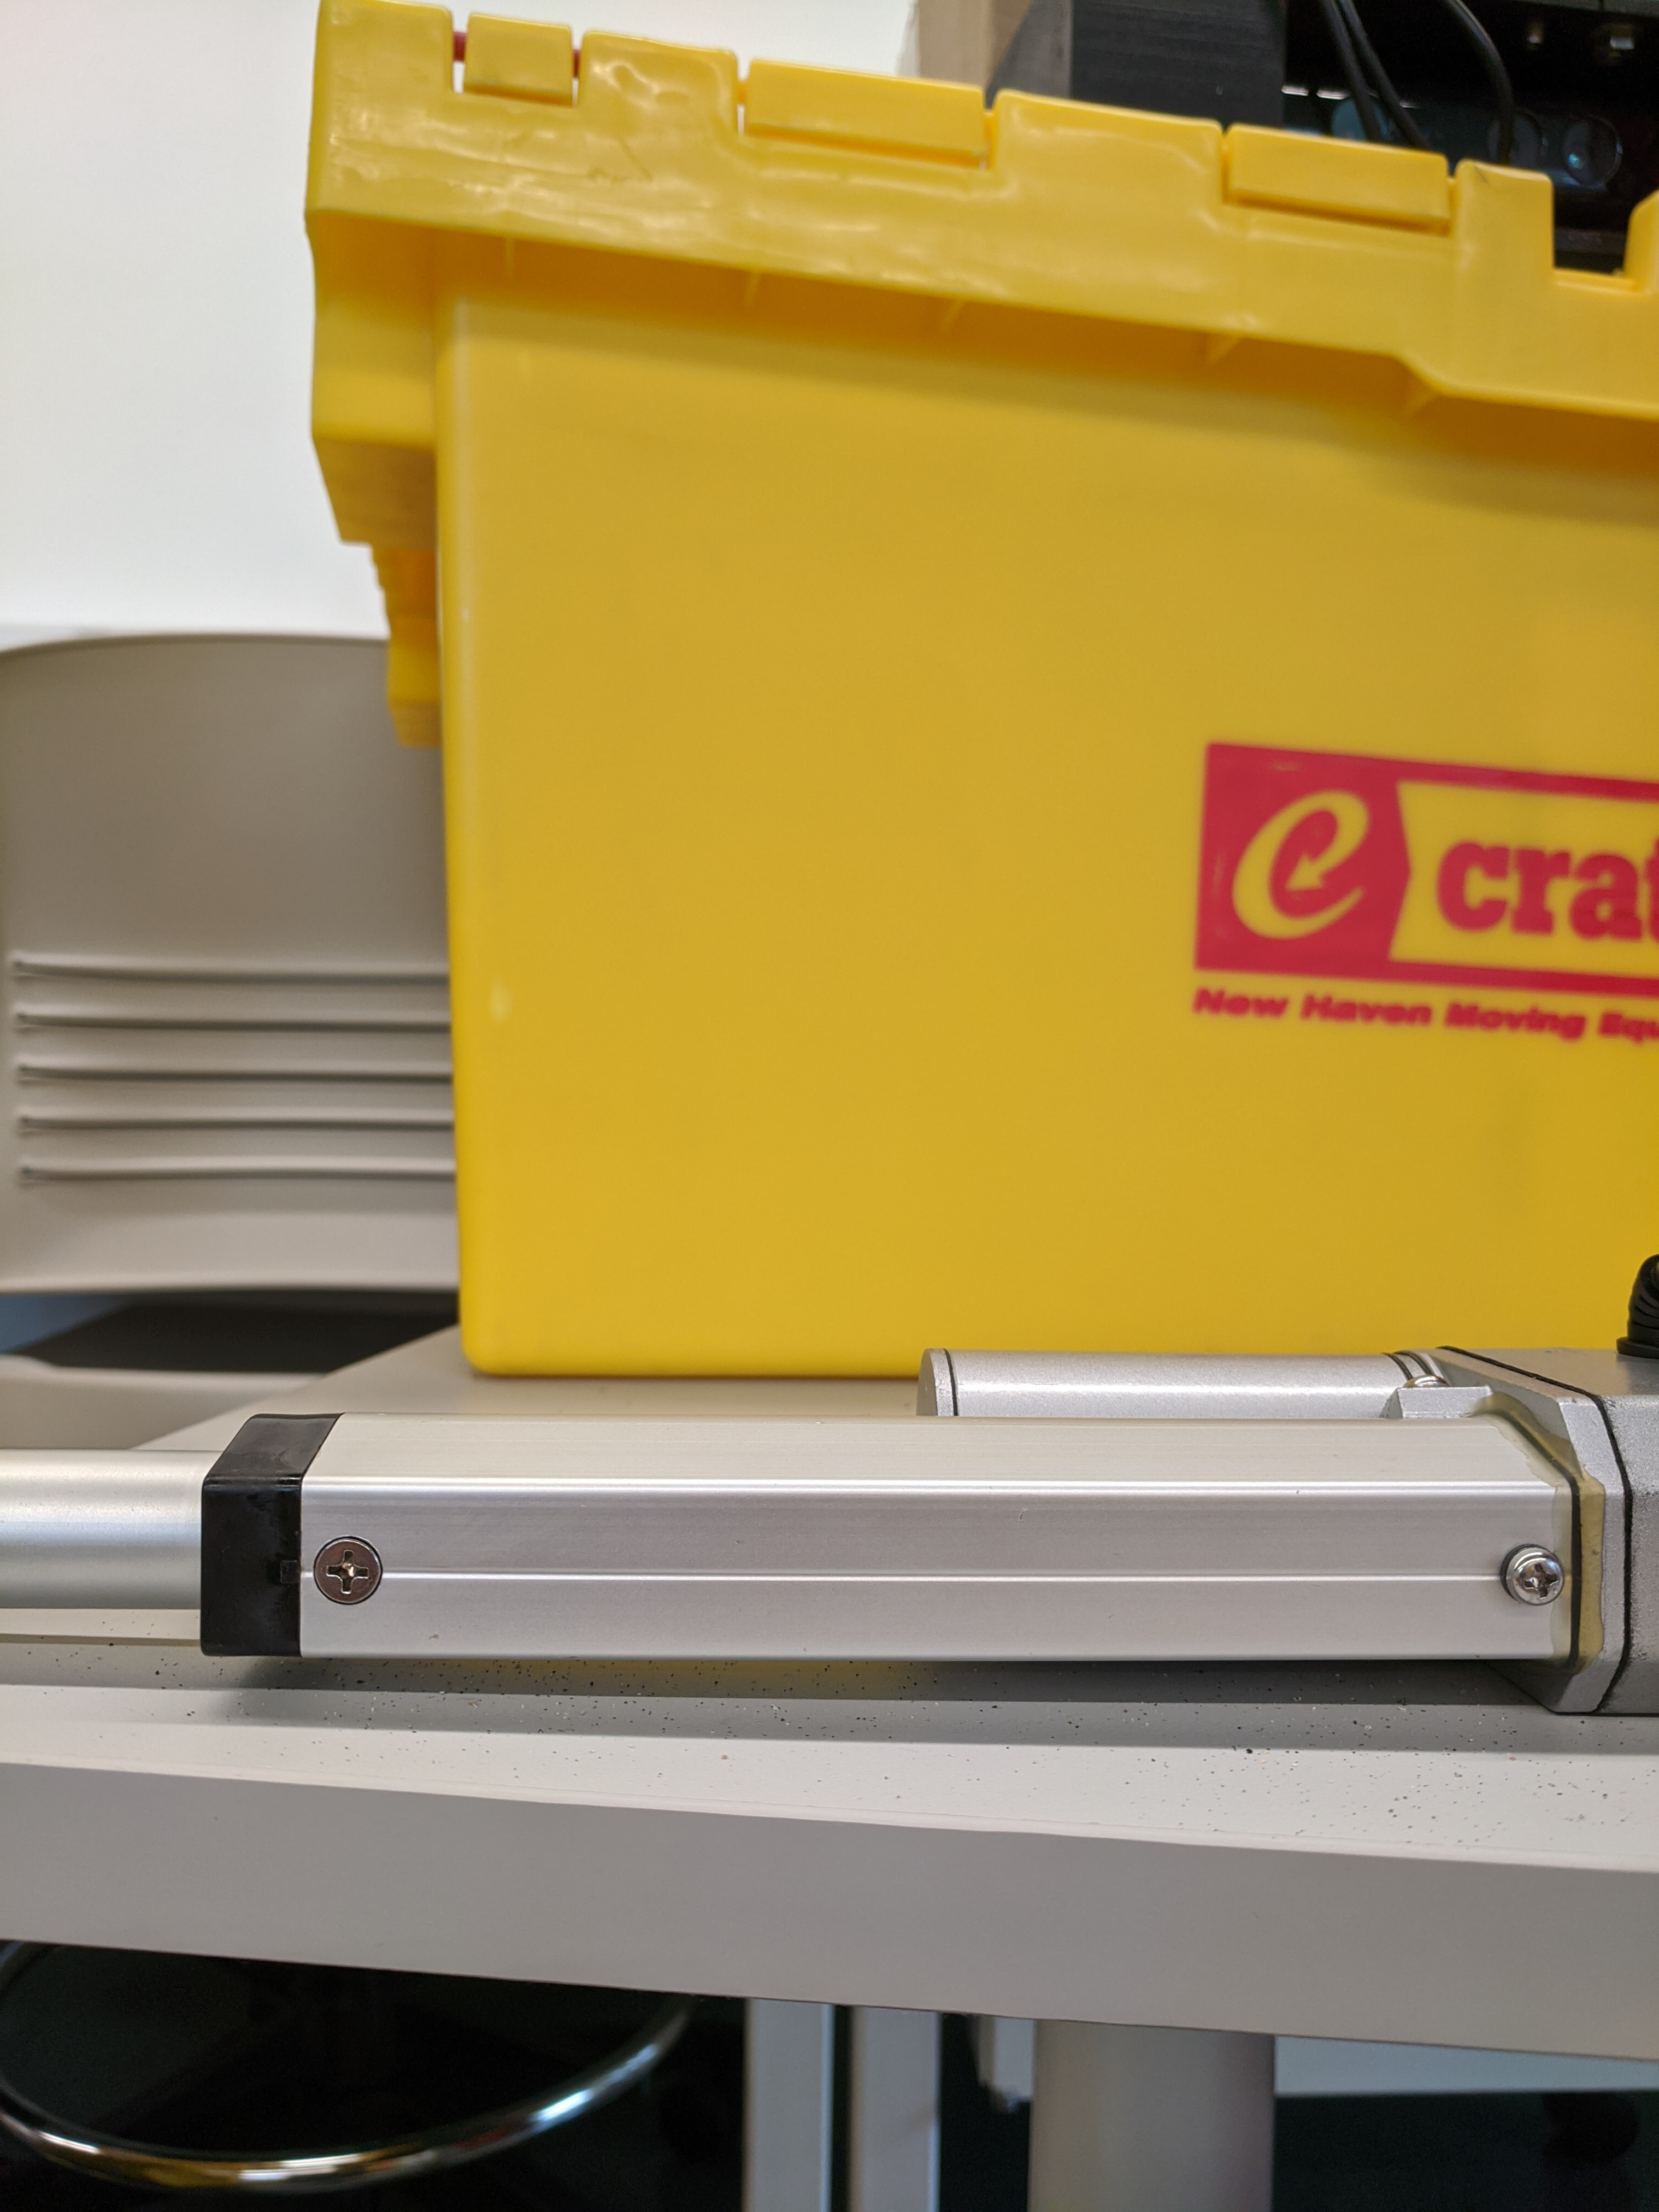cross_recessed_screw: (307, 1512, 397, 1618), (1488, 1531, 1575, 1622)
